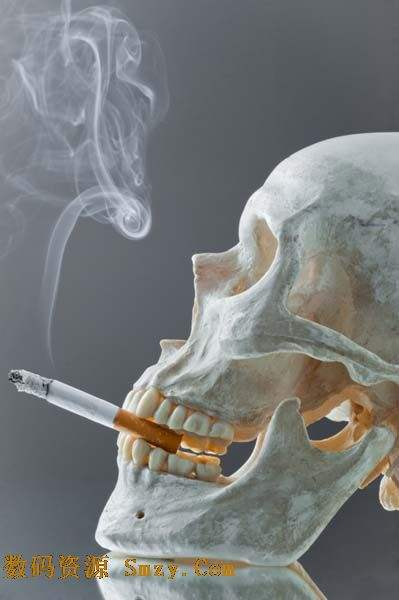yanwu: (19, 20, 154, 357)
